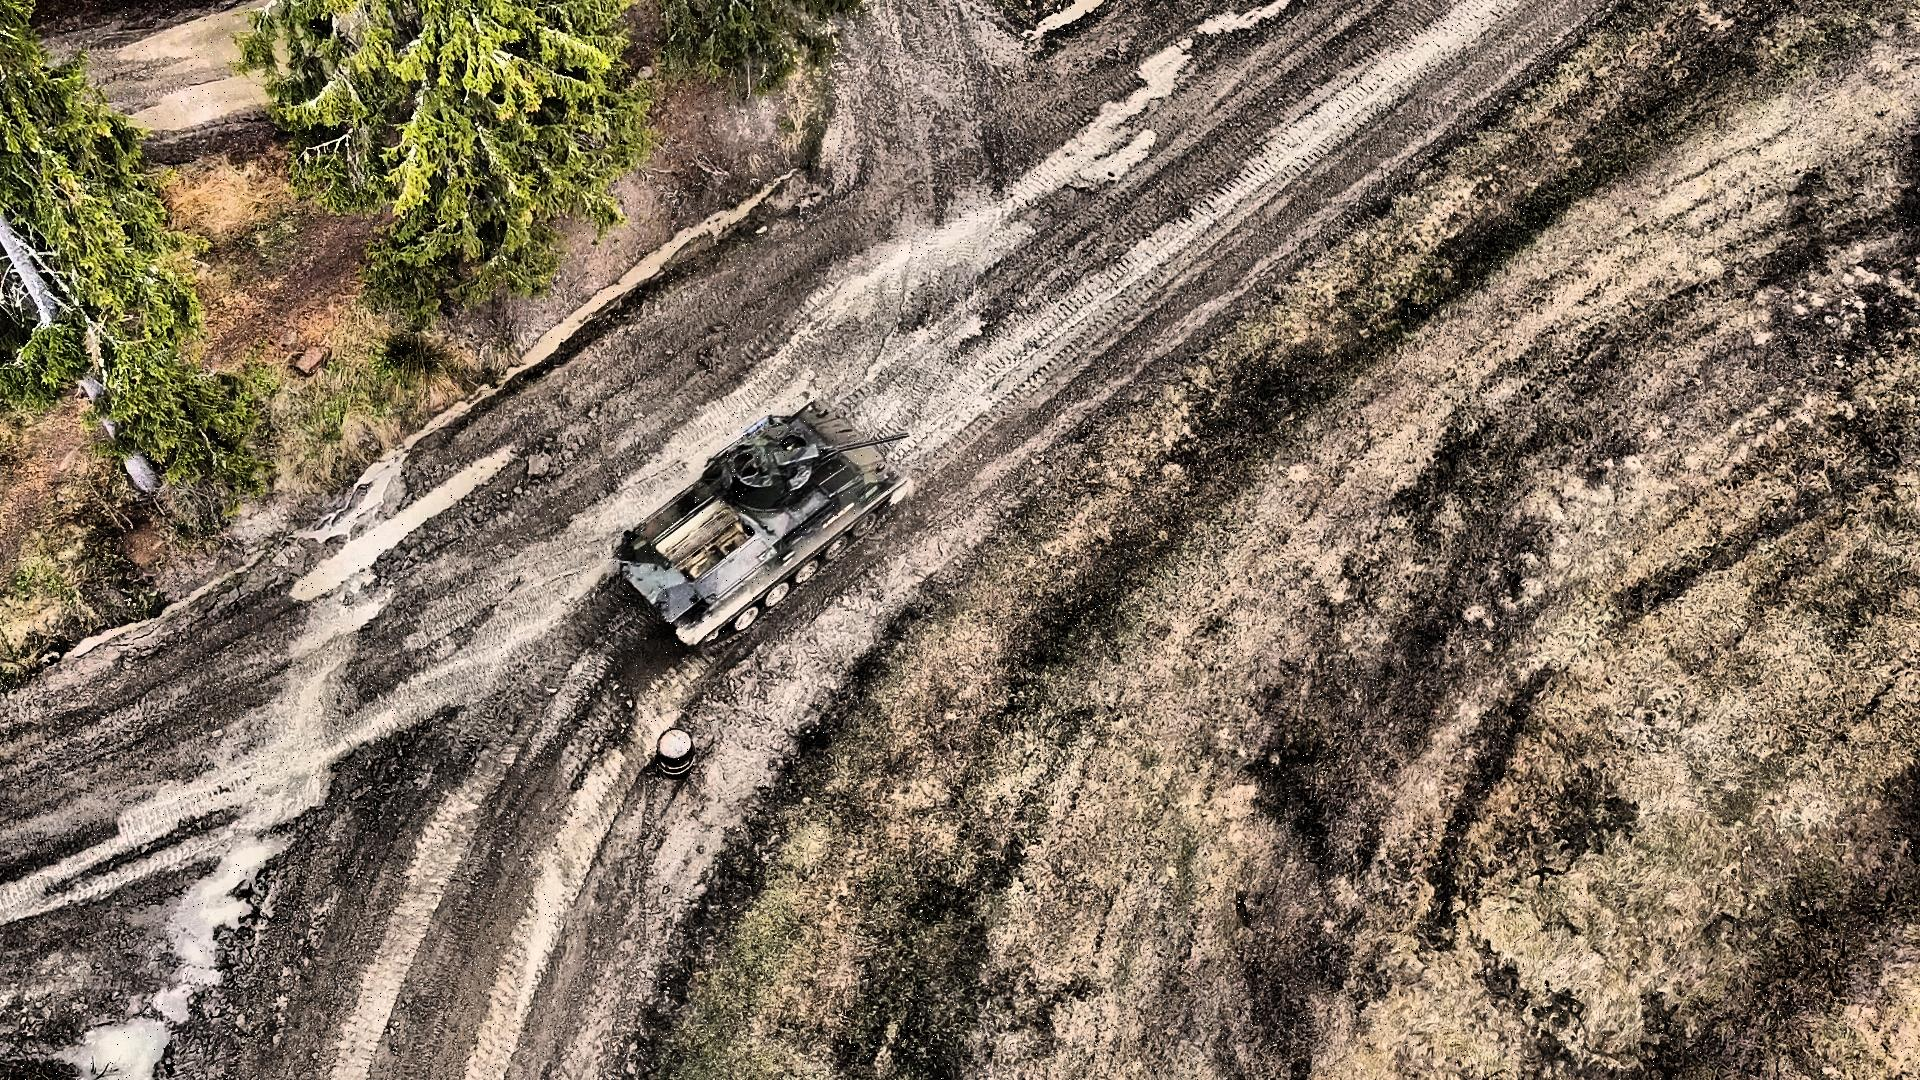military-vehicle: (617, 397, 911, 651)
